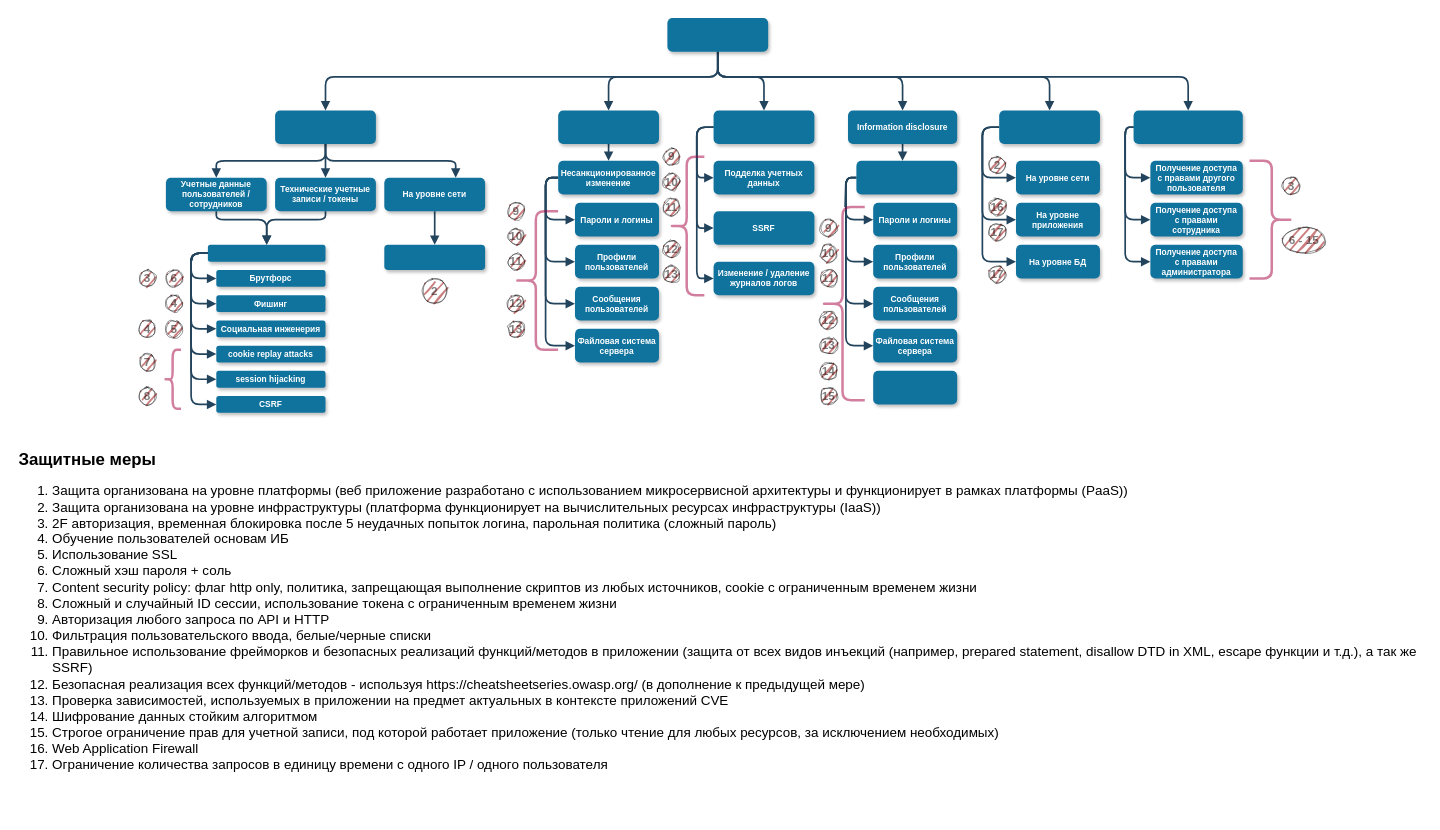
This 1440x830 diagram has some shape labels left out. The centre of each missing label's shape, as x and y in pixels:
ARP, DNS, IP spoofing: the point at 435,258
Cache: the point at 915,388
Denial of service: the point at 1050,128
Elevation of privilege: the point at 1188,128
Repudiation: the point at 764,128
Spoofing identity: the point at 326,128
Tampering with data: the point at 609,128
Threat Model (STRIDE): the point at 718,35
Кража / подделка: the point at 267,254
Несанкционированный доступ: the point at 907,178
